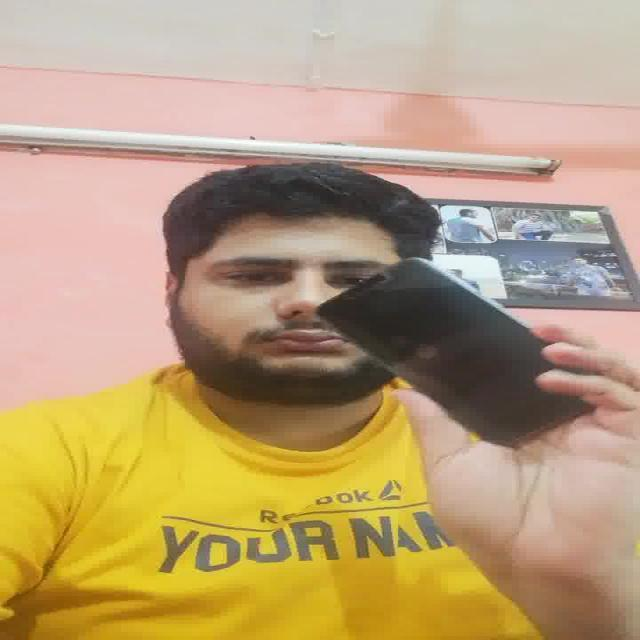Phone: (314, 256, 601, 454)
